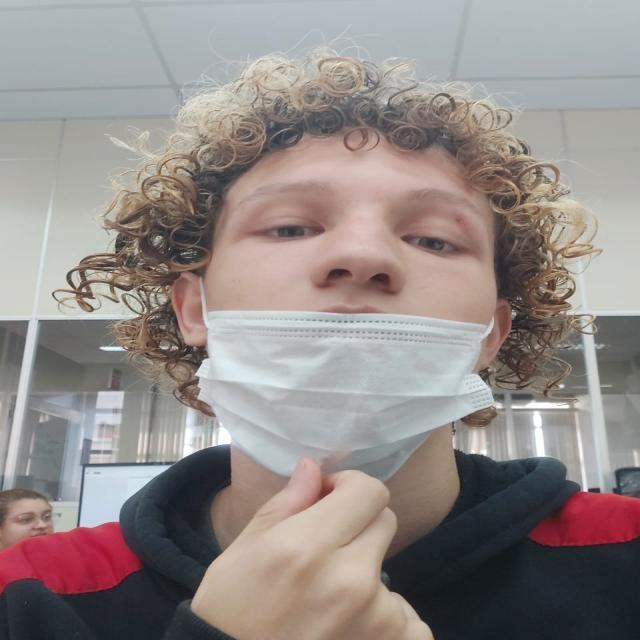hairnet: (204, 157, 484, 428)
